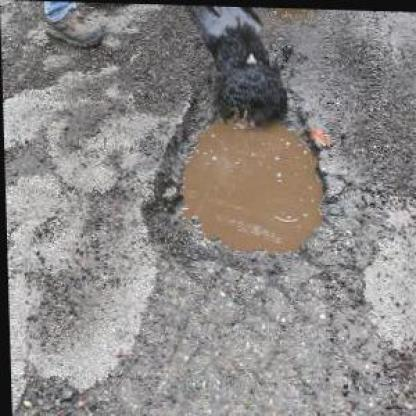pothole: (136, 72, 334, 284)
